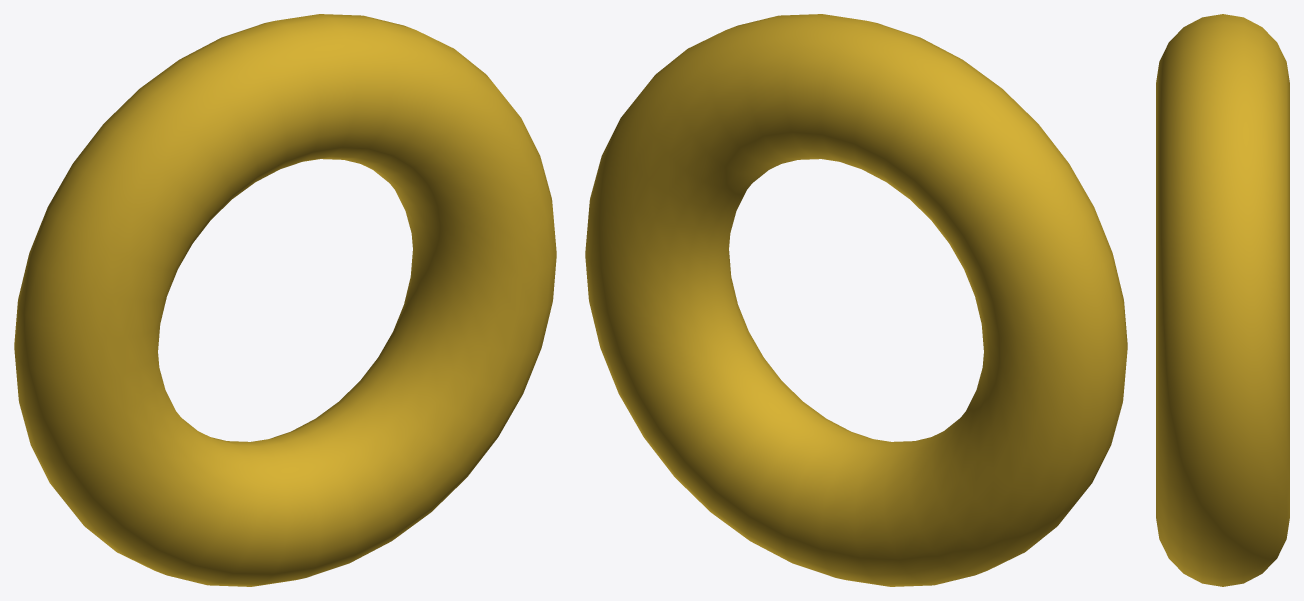
File: ring.fbx
3 renders of one model, left to right at view 1: azimuth 30°, elevation 25°; view 2: azimuth 150°, elevation 25°; view 3: azimuth 270°, elevation 25°, orthographic. The views are drawn at different scales.
Visible parts, largest first — view 1: pTorus1; view 2: pTorus1; view 3: pTorus1.
Boxes of the visible parts, <box> form: pTorus1: <box>14,14,556,586</box>; pTorus1: <box>585,14,1127,586</box>; pTorus1: <box>1156,14,1289,586</box>.
Bounding box in the file's own units: 1.99 × 1.99 × 0.4638.
